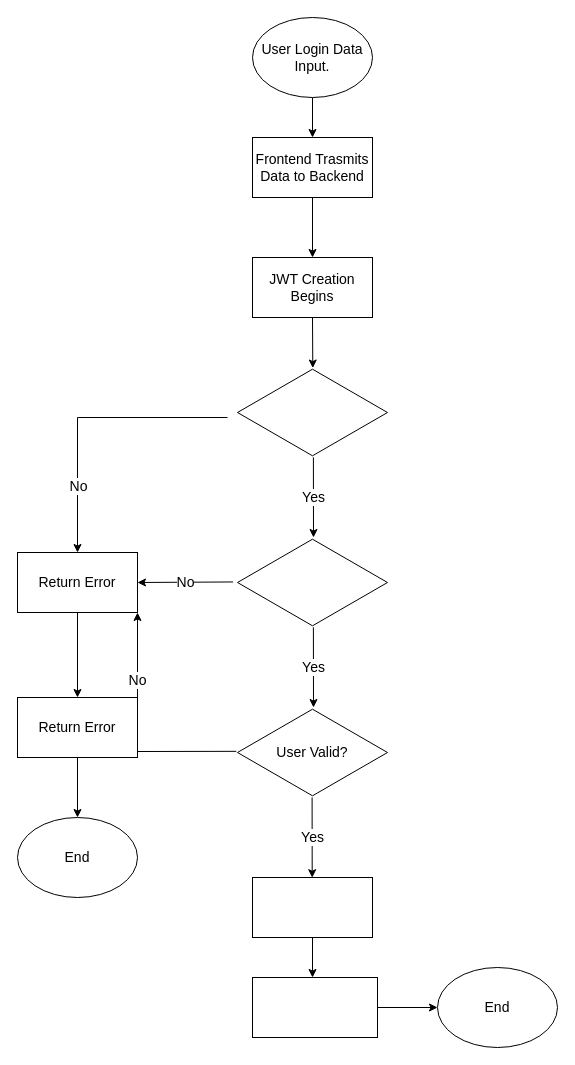
The diagram is 575 pixels wide and 1065 high, and some of its shapes have lost their labels. Here are the shapes that lost their labels. From the top down, the centre of each, then its label:
[312,412]: Valid JWT Format?
[312,582]: Not Expired
[312,907]: Create JWT
[315,1007]: Retrun JWT Create Session
